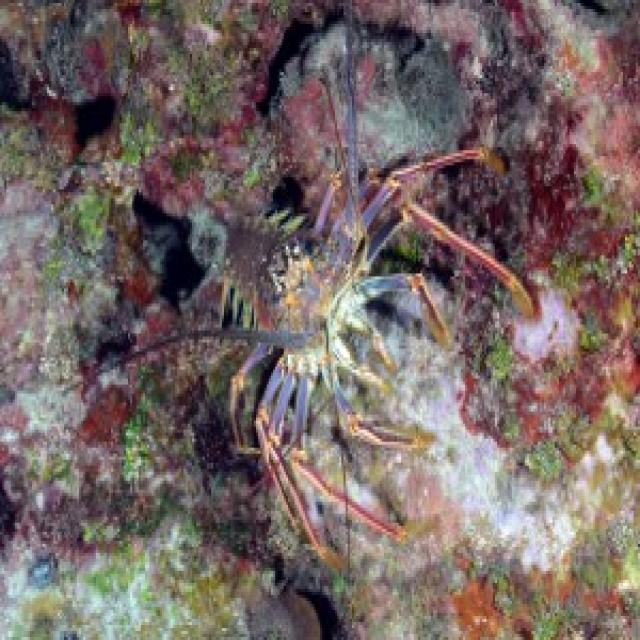lobsters: (108, 152, 568, 575)
